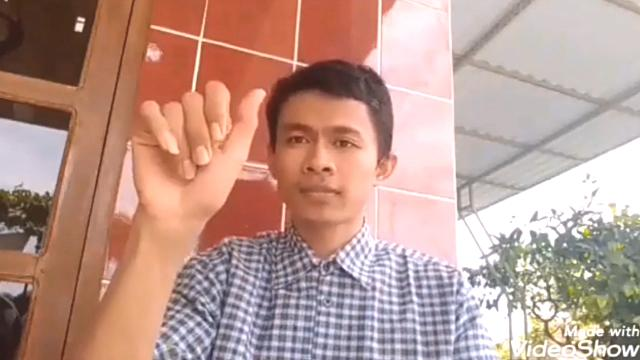A: (132, 82, 266, 238)
